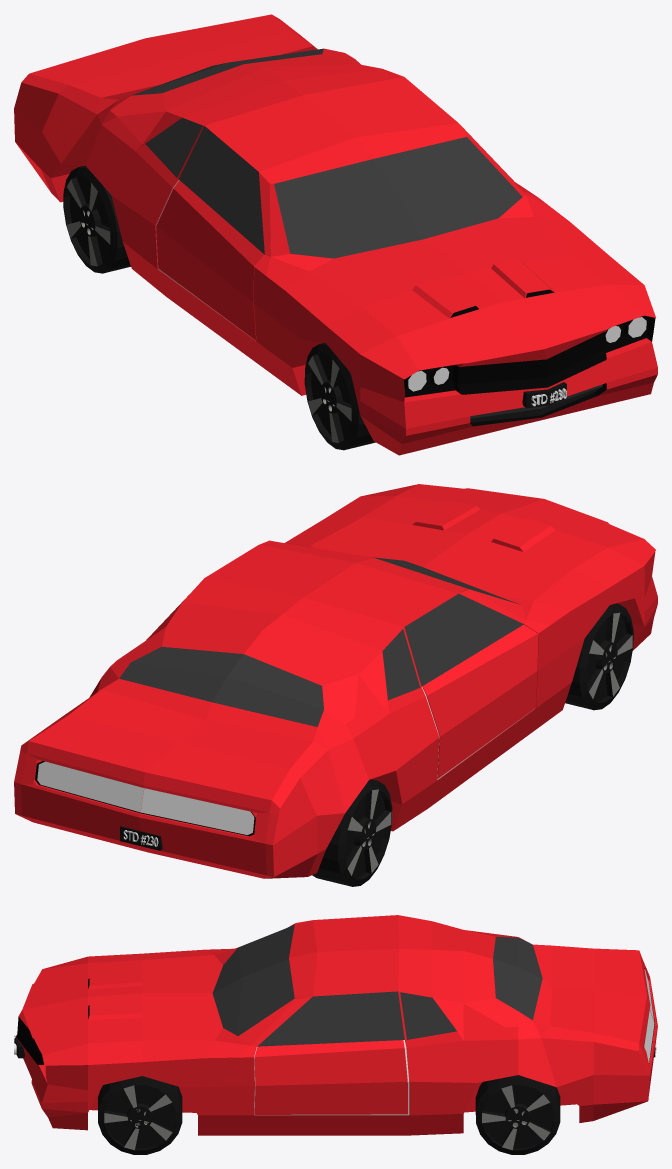
Rendered from Dodge.fbx.
3 views of the same model, one above another, from view 1: azimuth 30°, elevation 25°; view 2: azimuth 150°, elevation 25°; view 3: azimuth 270°, elevation 25° (orthographic). The views are drawn at different scales.
Visible parts, largest first — view 1: Plane, Cylinder; view 2: Plane, Cylinder; view 3: Plane, Cylinder.
Boxes of the visible parts, left/top/right/bottom form: Plane: left=14, top=14, right=657, bottom=455; Cylinder: left=63, top=166, right=375, bottom=450; Plane: left=14, top=484, right=657, bottom=878; Cylinder: left=312, top=603, right=633, bottom=886; Plane: left=17, top=915, right=657, bottom=1135; Cylinder: left=98, top=1075, right=560, bottom=1154.
Bounding box in the file's own units: 114 × 75.05 × 285.
